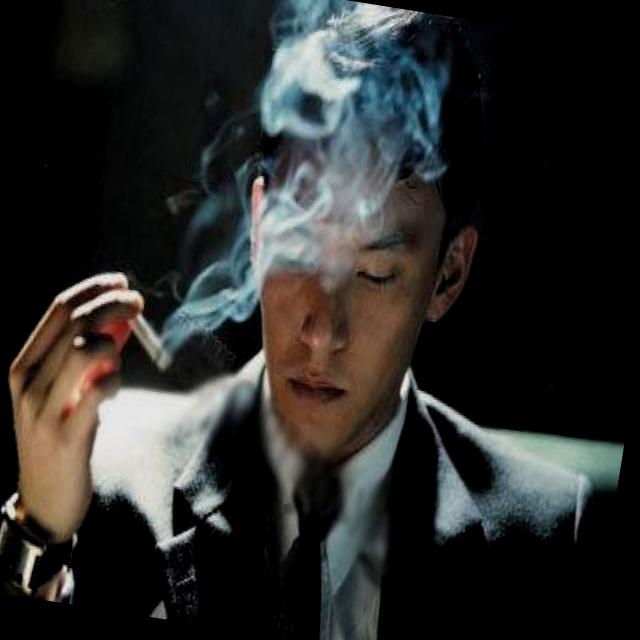smoke: (110, 310, 178, 373)
